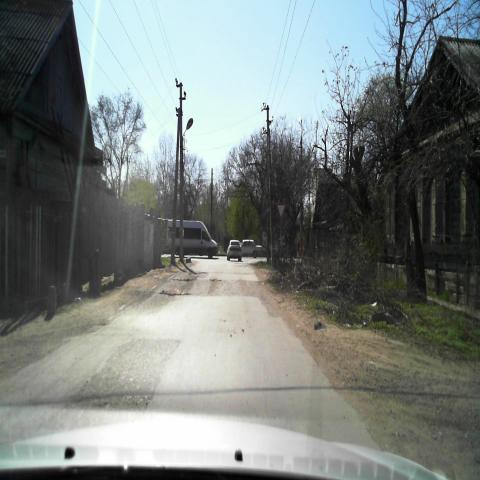2_4: (277, 203, 285, 219)
